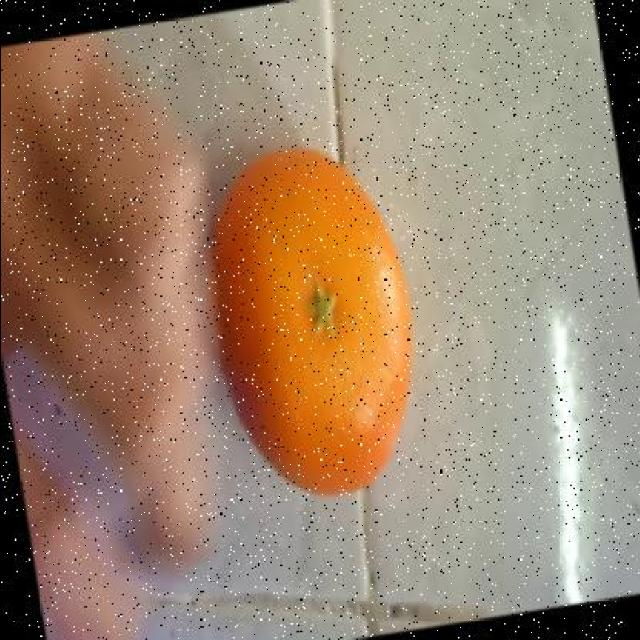Orange: (210, 146, 416, 497)
